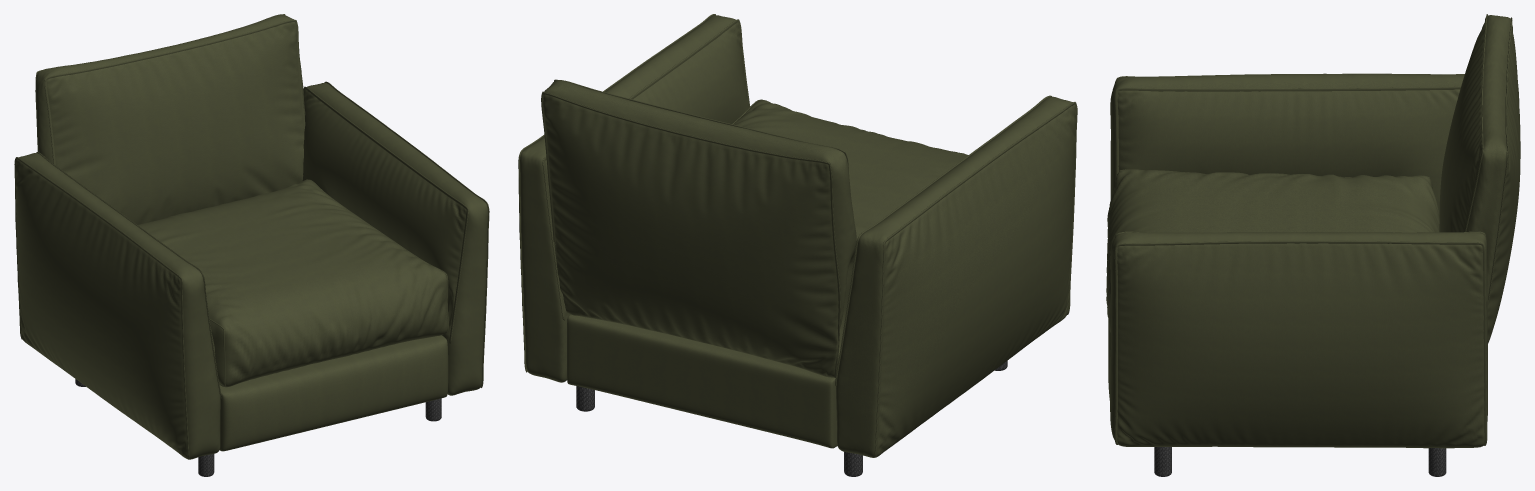
File: safa.glb
The picture shows the model from 3 angles, left to right: view 1: azimuth 30°, elevation 25°; view 2: azimuth 150°, elevation 25°; view 3: azimuth 270°, elevation 25°; orthographic projection. The views are drawn at different scales.
Parts seen in each view (by area): view 1: Obj3d66-706925-3-670_Standardmaterial_0 (×4); view 2: Obj3d66-706925-3-670_Standardmaterial_0 (×4); view 3: Obj3d66-706925-3-670_Standardmaterial_0 (×4), Obj3d66-706925-9-201, Obj3d66-706925-8-769.
Boxes of the visible parts, box(x1,y1,x2,y2) form: Obj3d66-706925-3-670_Standardmaterial_0 (×4): box(14, 14, 489, 459); Obj3d66-706925-3-670_Standardmaterial_0 (×4): box(518, 14, 1077, 457); Obj3d66-706925-3-670_Standardmaterial_0 (×4): box(1106, 14, 1520, 448); Obj3d66-706925-9-201: box(1428, 448, 1446, 476); Obj3d66-706925-8-769: box(1154, 447, 1171, 476).
Size of the model in its own units: 0.9809 by 0.8149 by 0.9239.
2 materials, 2 textured.
